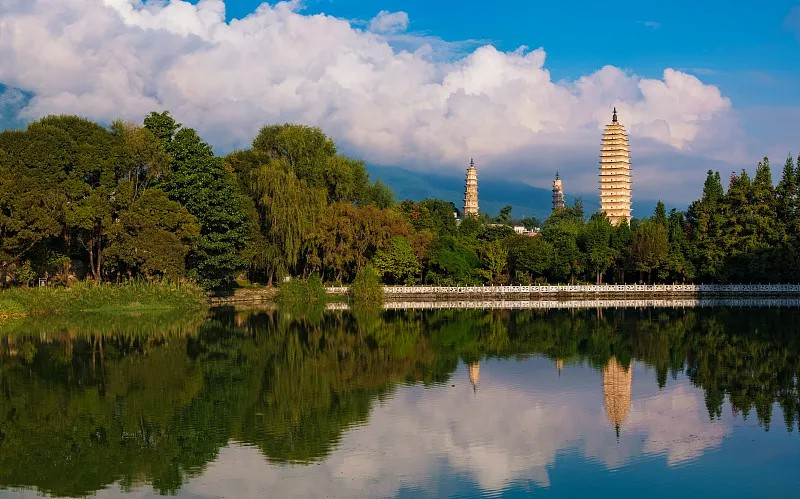ThreePagoda: (598, 106, 633, 225)
